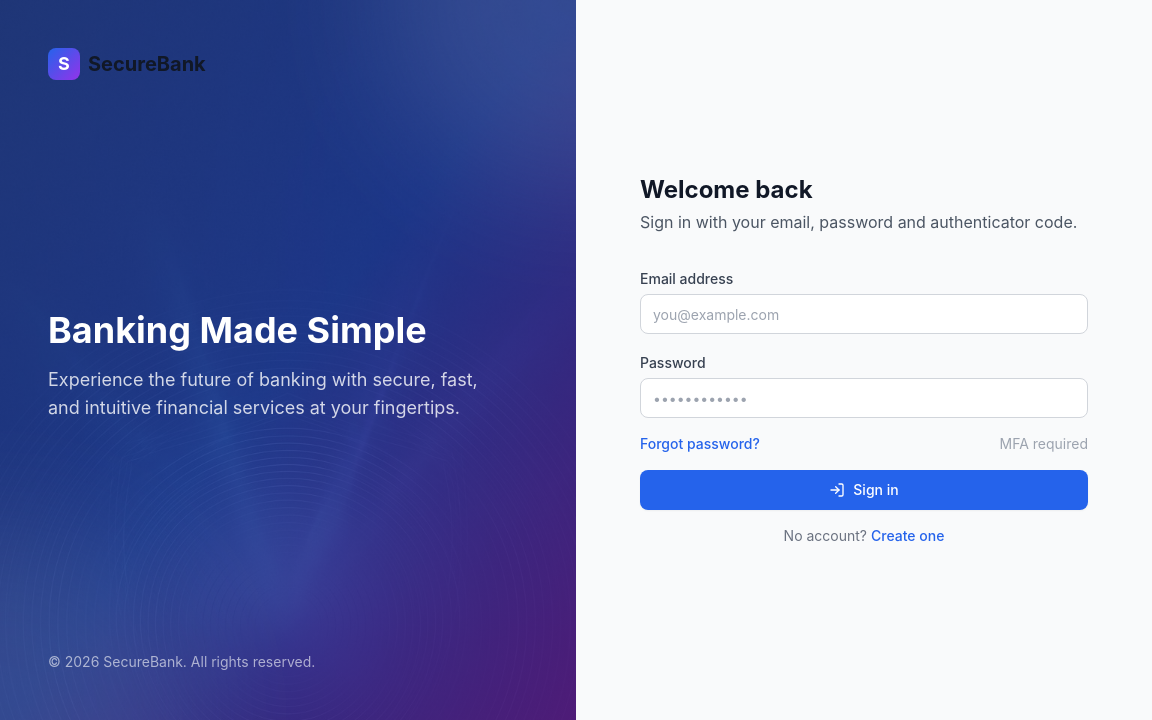
Test case: sign-in › shows the step-up MFA prompt after a correct password
Step 1. Type "demo@securebank.test" into the field labelled "Email address" → x=864, y=314, box [640,294,1088,334]
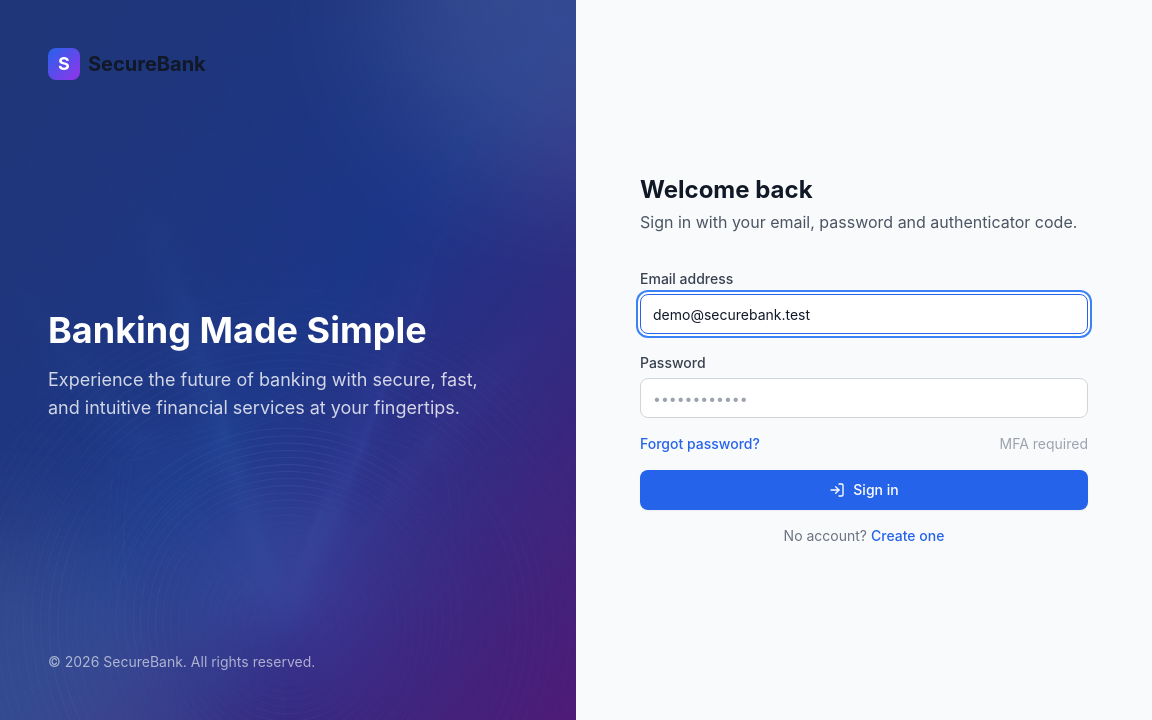
Step 2. Type "SecureBank!2026" into the password field labelled "Password" → x=864, y=398, box [640,378,1088,418]
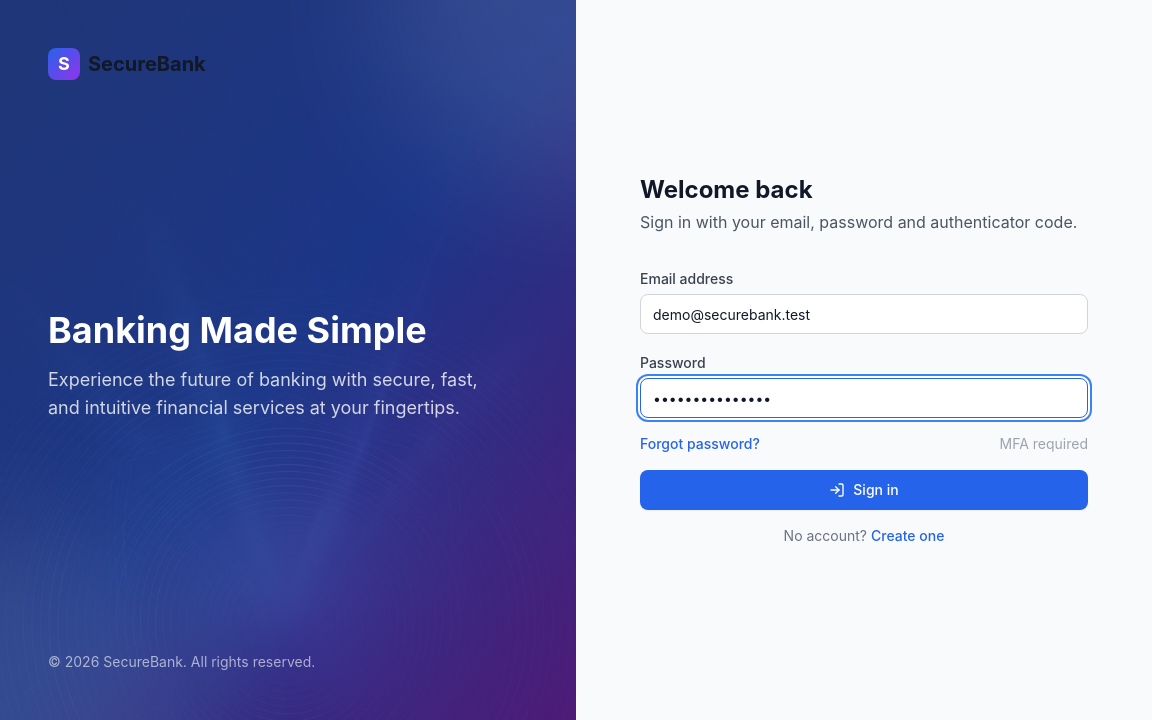
Step 3. Click the button "Sign in" → x=864, y=490, box [640,470,1088,510]
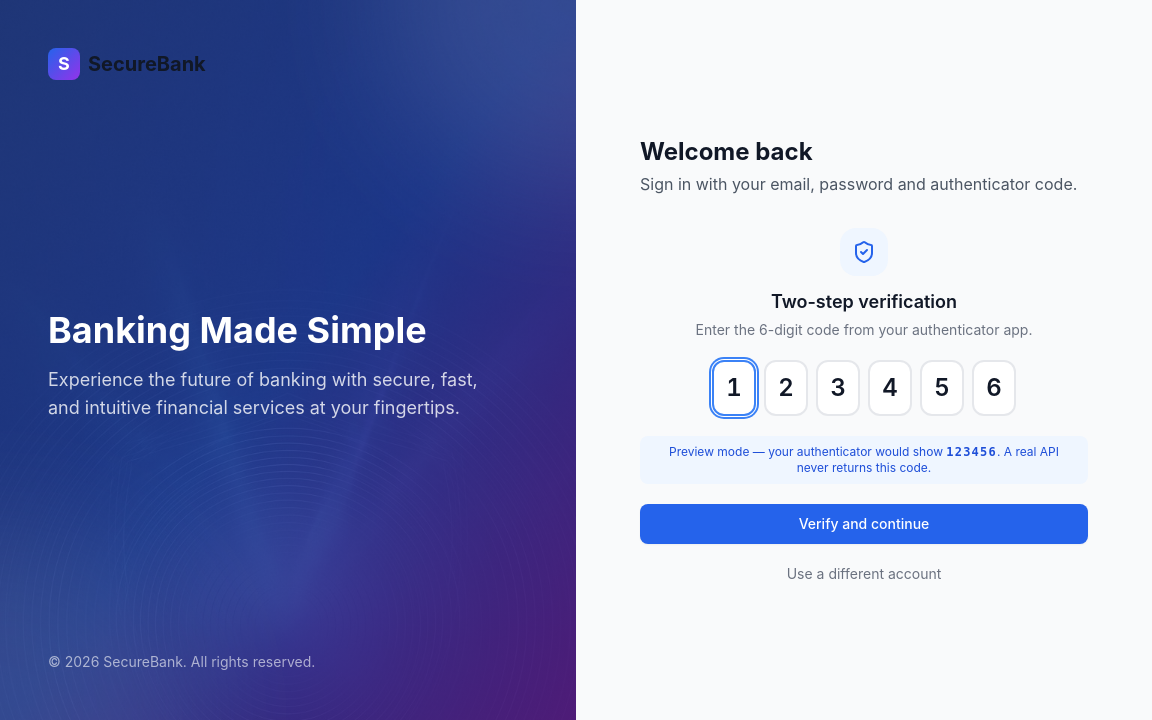
Now the heading "Two-step verification" is shown, box [771,290,957,312]
